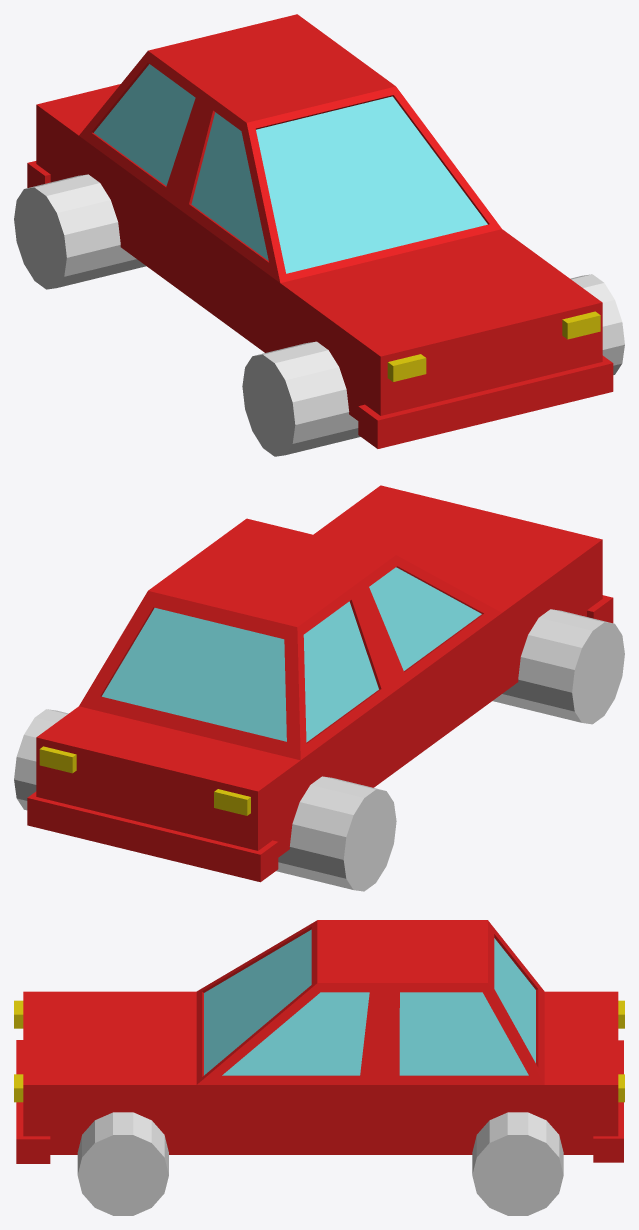
Rendered from carro_daniel.fbx.
3 renders of one model, top to bottom at view 1: azimuth 30°, elevation 25°; view 2: azimuth 150°, elevation 25°; view 3: azimuth 270°, elevation 25°, orthographic. The views are drawn at different scales.
Visible parts, largest first — view 1: Cube, Cylinder, Cylinder.003, Cube.001; view 2: Cube, Cylinder.003, Cylinder, Cube.002; view 3: Cube, Cylinder.003, Cylinder, Cube.001.
Part boxes in pixels (x1=…): Cube: x1=27, y1=14, x2=613, y2=448; Cylinder: x1=242, y1=274, x2=624, y2=456; Cylinder.003: x1=14, y1=174, x2=146, y2=289; Cube.001: x1=387, y1=311, x2=600, y2=381; Cube: x1=27, y1=485, x2=613, y2=882; Cylinder.003: x1=14, y1=709, x2=396, y2=891; Cylinder: x1=493, y1=609, x2=624, y2=724; Cube.002: x1=39, y1=746, x2=250, y2=815; Cube: x1=16, y1=920, x2=623, y2=1163; Cylinder.003: x1=472, y1=1112, x2=563, y2=1215; Cylinder: x1=77, y1=1112, x2=168, y2=1215; Cube.001: x1=14, y1=1000, x2=23, y2=1102.
Size of the model in its own units: 609 by 398 by 1131.
